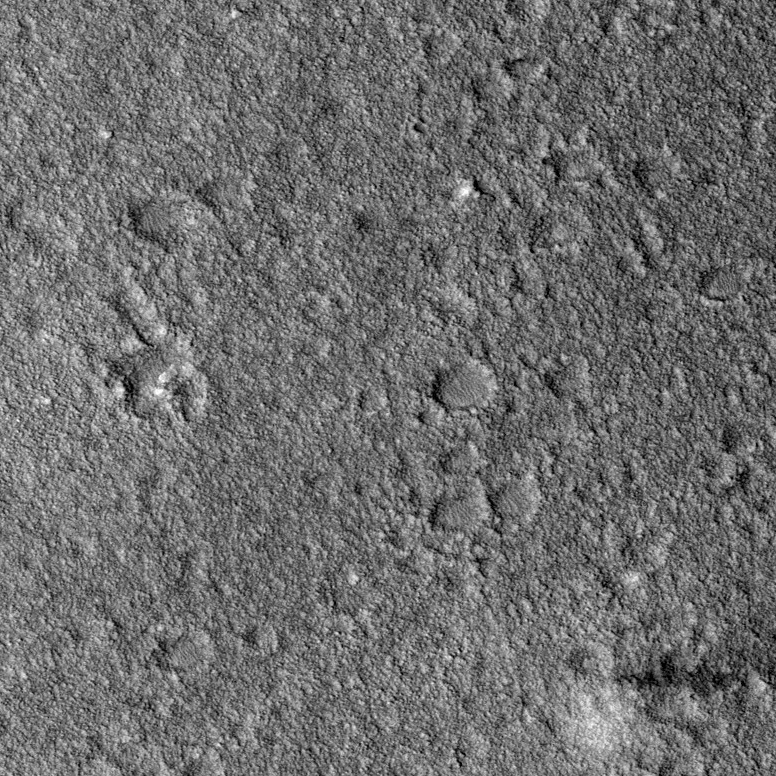dust_devil: (559, 652, 776, 759)
